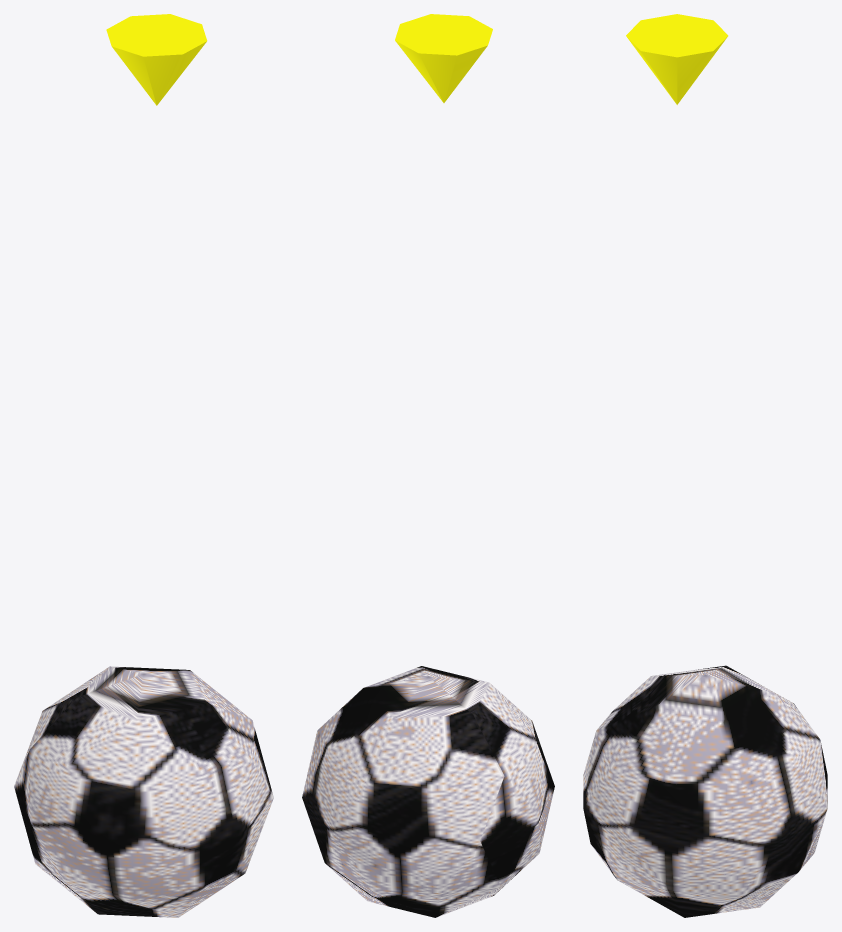
The model's file is ball.glb.
3 views of the same model, side by side, from view 1: azimuth 30°, elevation 25°; view 2: azimuth 150°, elevation 25°; view 3: azimuth 270°, elevation 25° (orthographic). The views are drawn at different scales.
Parts seen in each view (by area): view 1: ball; view 2: ball; view 3: ball.
Part boxes in pixels (x1,y1,x2,y2): ball: (14, 14, 273, 917); ball: (302, 14, 554, 917); ball: (583, 14, 827, 917).
Bounding box in the file's own units: 22.32 × 83.53 × 21.22.
2 materials, 2 textured.
